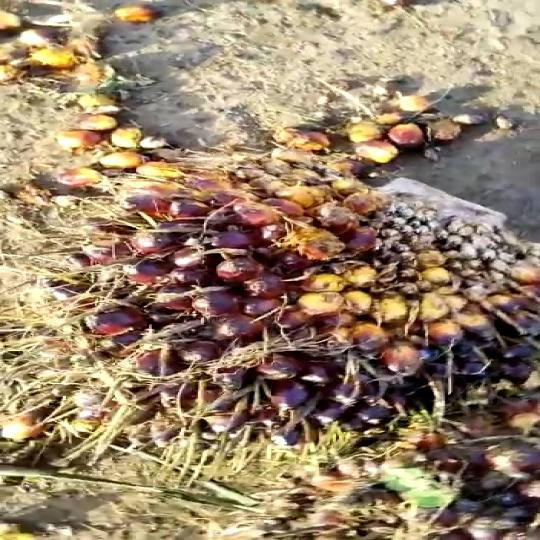mentah: (75, 181, 536, 457)
